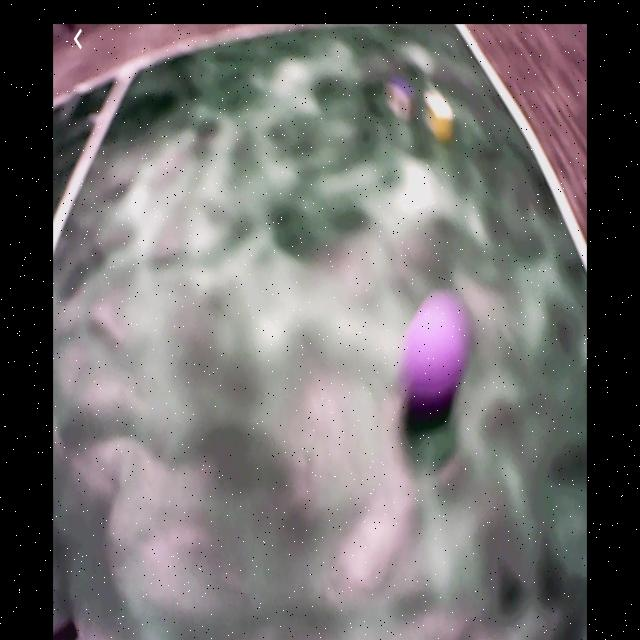ball: (406, 292, 468, 405)
